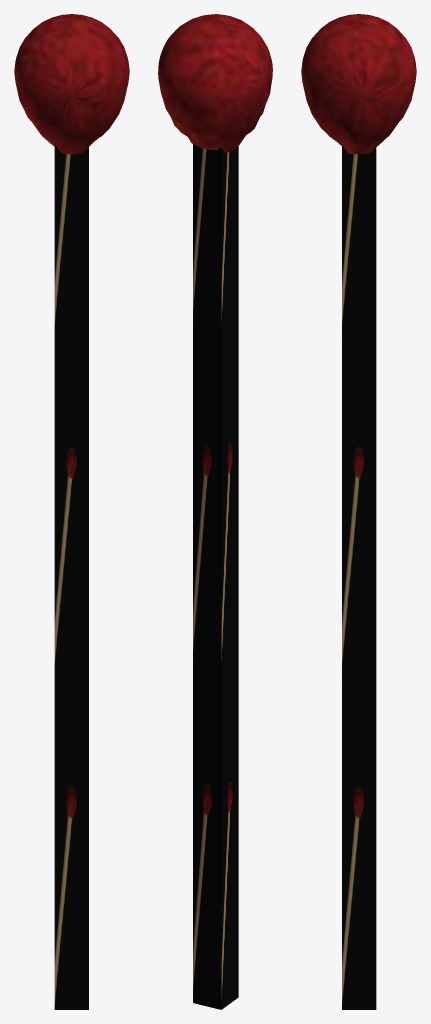
Rendered from Fosforo prendido.FBX.
The picture shows the model from 3 angles, left to right: view 1: azimuth 90°, elevation 25°; view 2: azimuth 150°, elevation 25°; view 3: azimuth 270°, elevation 25°; orthographic projection.
Visible parts, largest first — view 1: Box001, Sphere001; view 2: Box001, Sphere001; view 3: Box001, Sphere001.
Boxes of the visible parts, bbox=[...] form: Box001: bbox=[54, 145, 88, 1009]; Sphere001: bbox=[14, 14, 129, 154]; Box001: bbox=[193, 143, 238, 1009]; Sphere001: bbox=[158, 14, 272, 152]; Box001: bbox=[342, 146, 376, 1009]; Sphere001: bbox=[301, 14, 416, 154].
Bounding box in the file's own units: 8.64 × 81.25 × 8.64.
